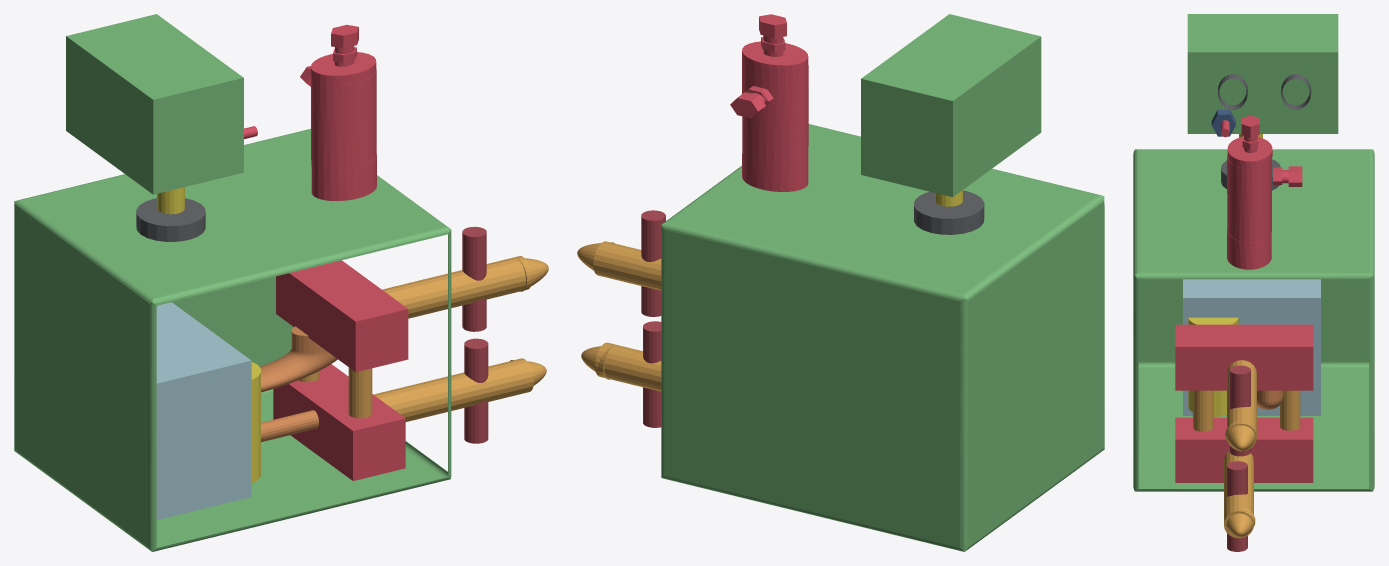
The model's file is spotSetup.glb.
3 views of the same model, side by side, from view 1: azimuth 30°, elevation 25°; view 2: azimuth 150°, elevation 25°; view 3: azimuth 270°, elevation 25° (orthographic). The views are drawn at different scales.
Parts seen in each view (by area): view 1: Mesh_Mesh_head_geo.001_lambert2SG.001; view 2: Mesh_Mesh_head_geo.001_lambert2SG.001; view 3: Mesh_Mesh_head_geo.001_lambert2SG.001.
Boxes of the visible parts, left/top/right/bottom form: Mesh_Mesh_head_geo.001_lambert2SG.001: left=14, top=14, right=548, bottom=551; Mesh_Mesh_head_geo.001_lambert2SG.001: left=577, top=14, right=1104, bottom=551; Mesh_Mesh_head_geo.001_lambert2SG.001: left=1133, top=14, right=1374, bottom=551.
Bounding box in the file's own units: 152 × 141 × 80.
